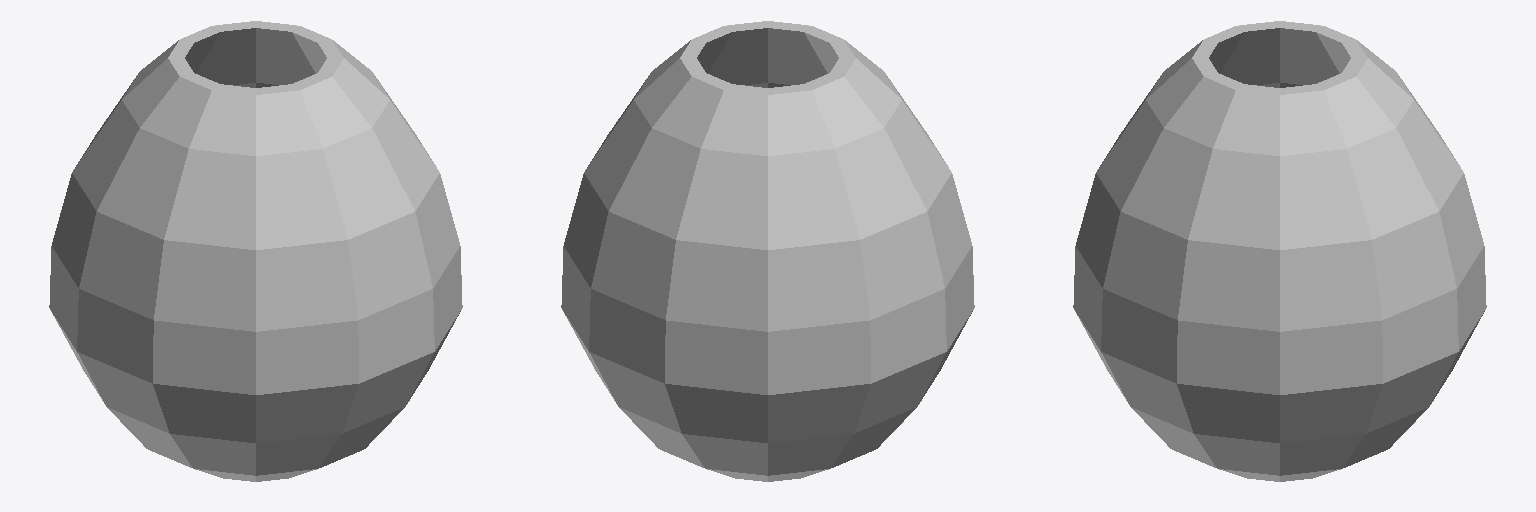
File: smallvase.obj
3 renders of one model, left to right at view 1: azimuth 30°, elevation 25°; view 2: azimuth 150°, elevation 25°; view 3: azimuth 270°, elevation 25°, orthographic.
Size of the model in its own units: 0.3594 by 0.38 by 0.3594.